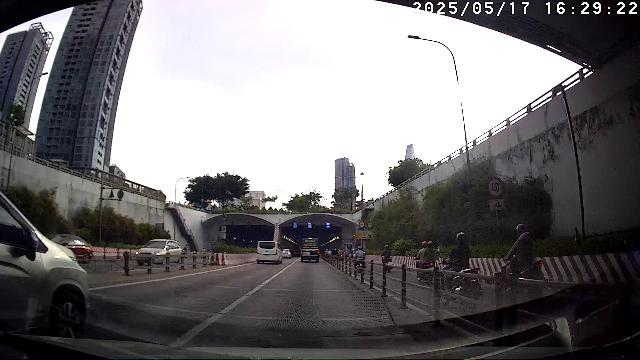127-toc-do-toi-da-40: (487, 176, 505, 198)
